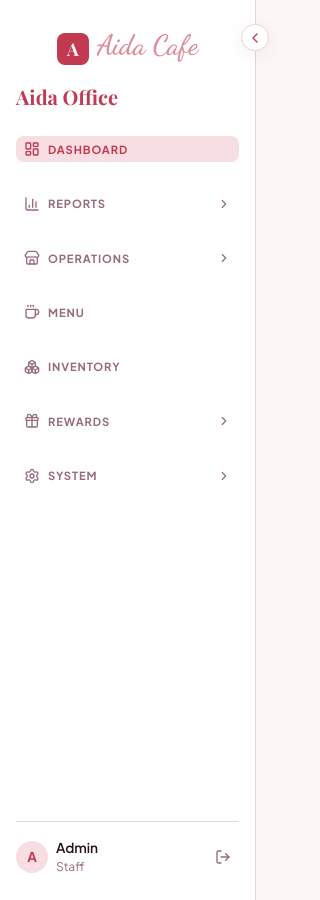
Test: AdminSidebar (collapsed rail icon clicks) › re-expands the sidebar and opens that section when a rail icon is clicked
The image size is (320, 900).
Click the button named "Collapse sidebar" at (255, 38), box x1=241 y1=24 x2=269 y2=51
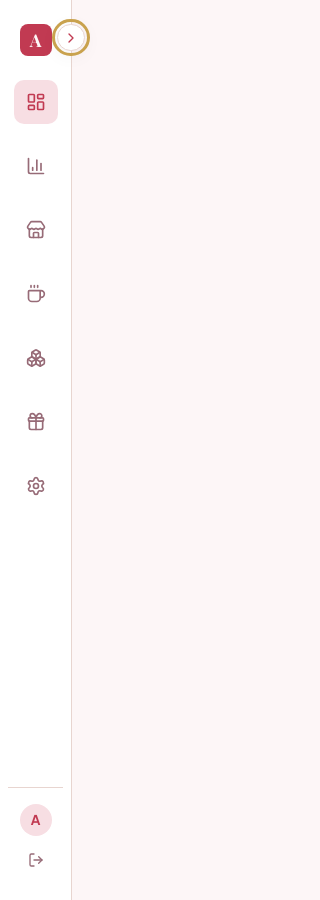
Click the button named "Reports" at (36, 166), box x1=14 y1=144 x2=58 y2=188
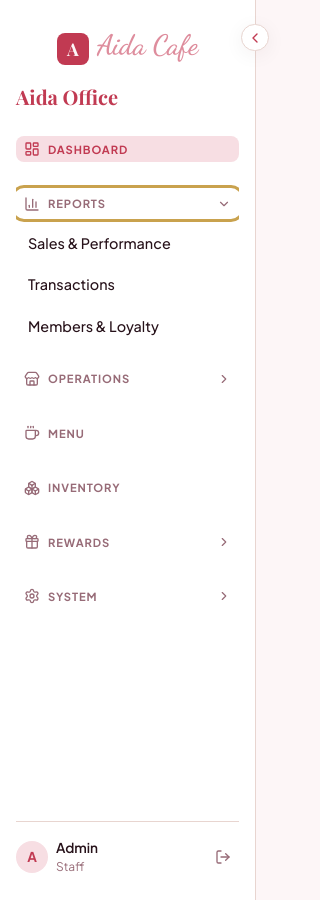
Expected: the button named "Collapse sidebar" is shown, x1=241 y1=24 x2=269 y2=51
Expected: the link "Sales & Performance" is shown, x1=28 y1=234 x2=171 y2=252
Expected: the link "Transactions" is shown, x1=28 y1=275 x2=115 y2=293
